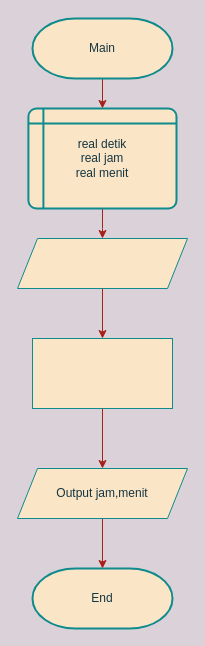
This 205x646 diagram has some shape labels left out. Each missing label, with the centre of its shape:
"Input Detik" goes at (102,263).
"jam = Detik/3600 menit = Detik/3600" goes at (102,373).
